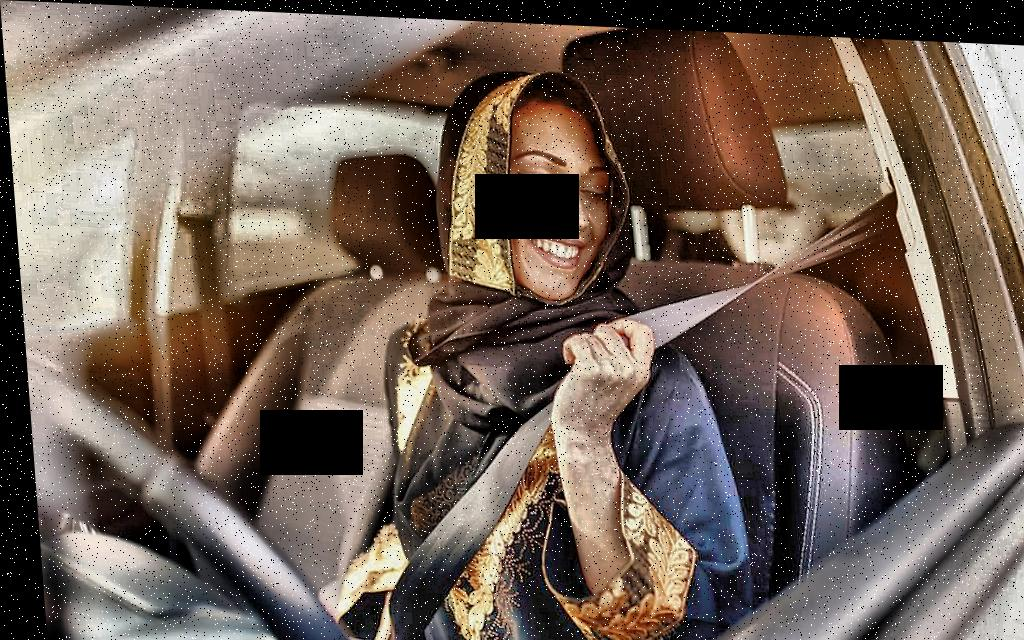seatbelt: (349, 158, 945, 640)
